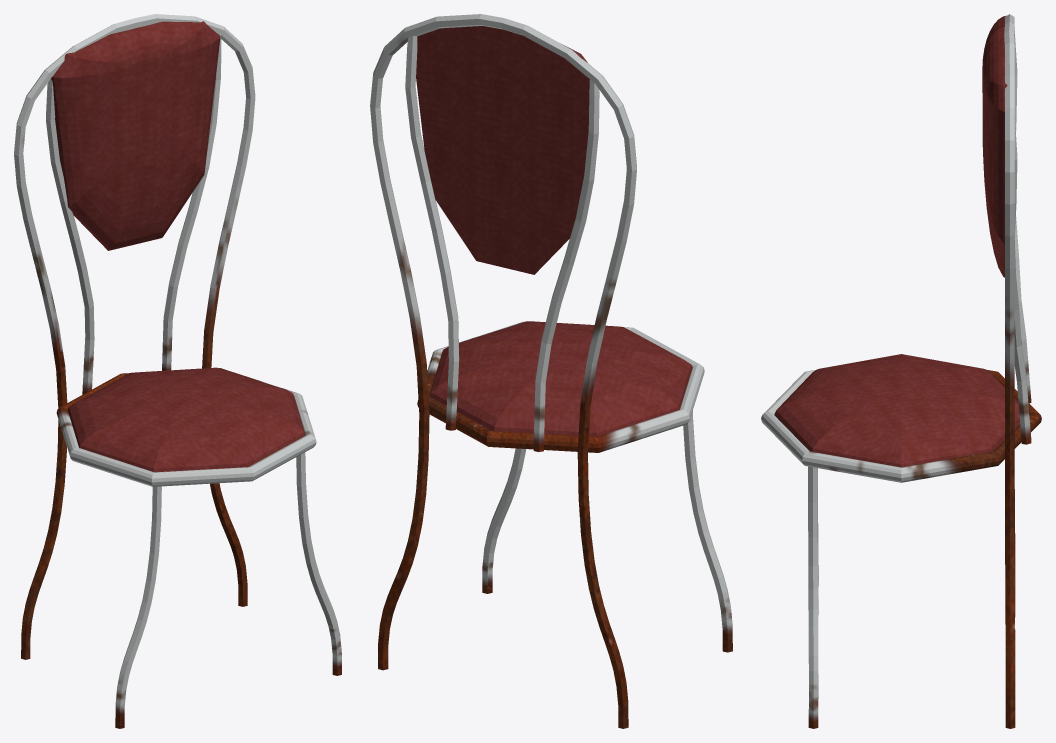
Rendered from cadeira.fbx.
3 renders of one model, left to right at view 1: azimuth 30°, elevation 25°; view 2: azimuth 150°, elevation 25°; view 3: azimuth 270°, elevation 25°, orthographic. The views are drawn at different scales.
Visible parts, largest first — view 1: Sphere; view 2: Sphere; view 3: Sphere.
Part boxes in pixels (<box>): Sphere: <box>14,14,341,728</box>; Sphere: <box>370,14,732,728</box>; Sphere: <box>761,14,1041,728</box>.
Bounding box in the file's own units: 61.16 × 149 × 59.06.
1 material, 1 textured.
